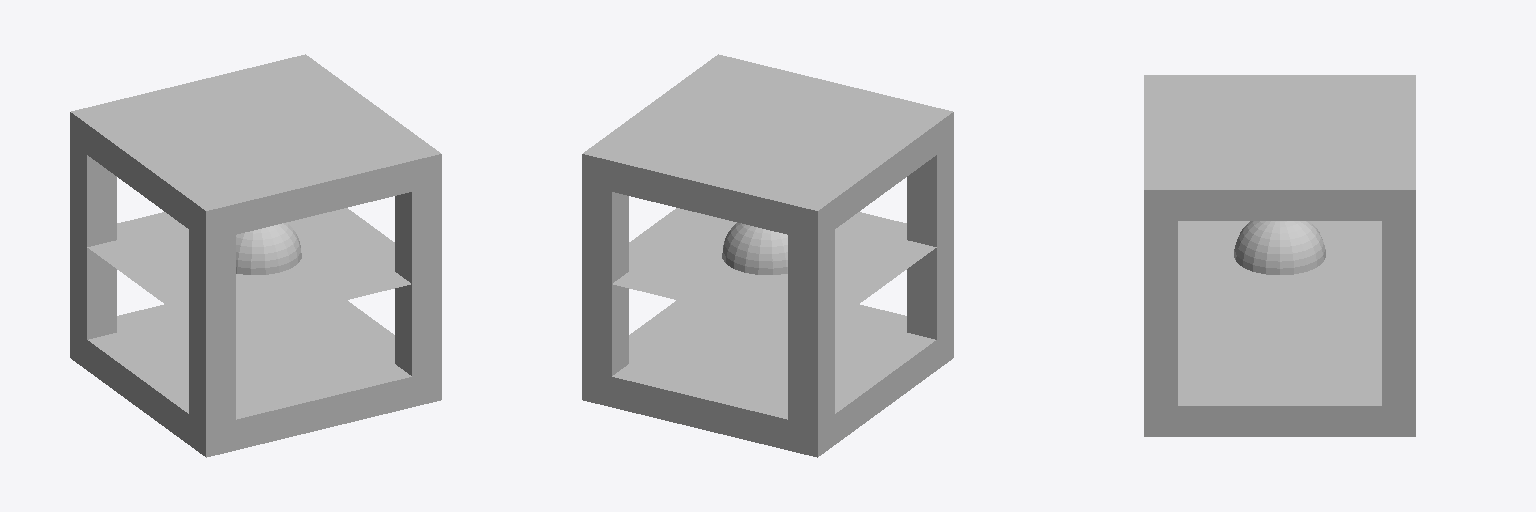
File: contained_black_hole.obj
3 views of the same model, side by side, from view 1: azimuth 30°, elevation 25°; view 2: azimuth 150°, elevation 25°; view 3: azimuth 270°, elevation 25° (orthographic).
Parts seen in each view (by area): view 1: polySurface1; view 2: polySurface1; view 3: polySurface1.
Boxes of the visible parts, box(x1,y1,x2,y2) form: polySurface1: box(70, 54, 441, 457); polySurface1: box(582, 54, 953, 457); polySurface1: box(1144, 75, 1415, 436).
Size of the model in its own units: 2 by 2 by 2.